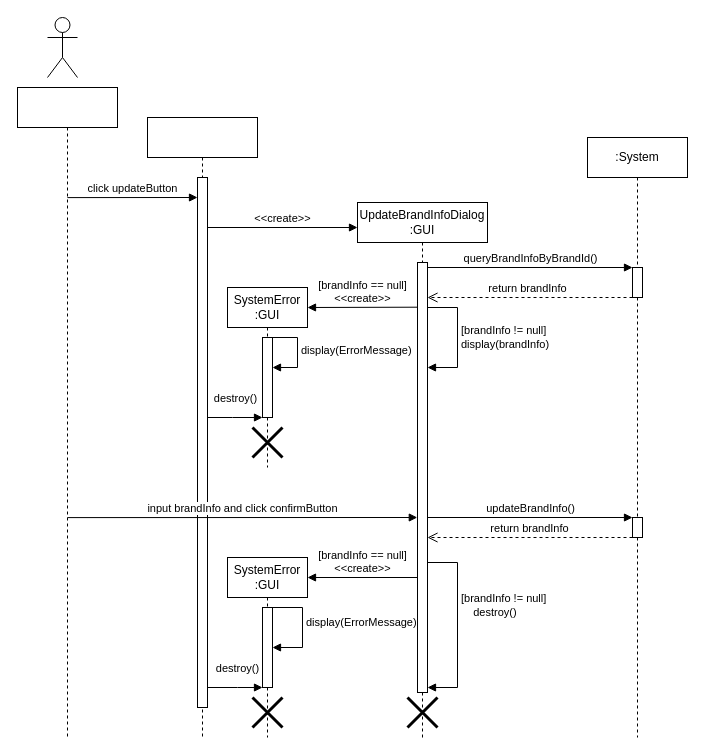
Image size: 705x755. Some labels were removed from this diagram. The shapes that lost their labels are listed below. From the top down, each one's box as (x1, y1, x2, y2) in pixels, then its label:
(16, 86, 118, 738): User
(146, 116, 258, 738): BrandManagePage :GUI
